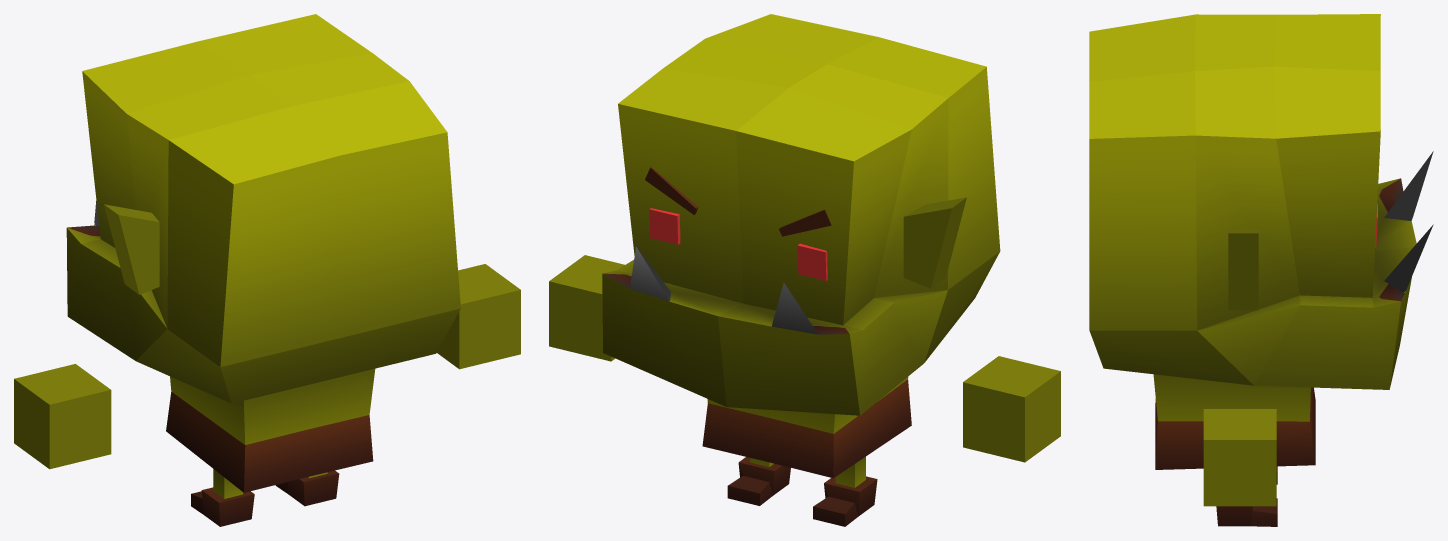
Rendered from Orc.fbx.
3 renders of one model, left to right at view 1: azimuth 30°, elevation 25°; view 2: azimuth 150°, elevation 25°; view 3: azimuth 270°, elevation 25°, orthographic. The views are drawn at different scales.
Visible parts, largest first — view 1: Cube.007; view 2: Cube.007; view 3: Cube.007.
Boxes of the visible parts, <box> form: Cube.007: <box>14,14,520,526</box>; Cube.007: <box>549,14,1060,526</box>; Cube.007: <box>1089,14,1433,526</box>.
Bounding box in the file's own units: 68.95 × 58.57 × 42.41.
